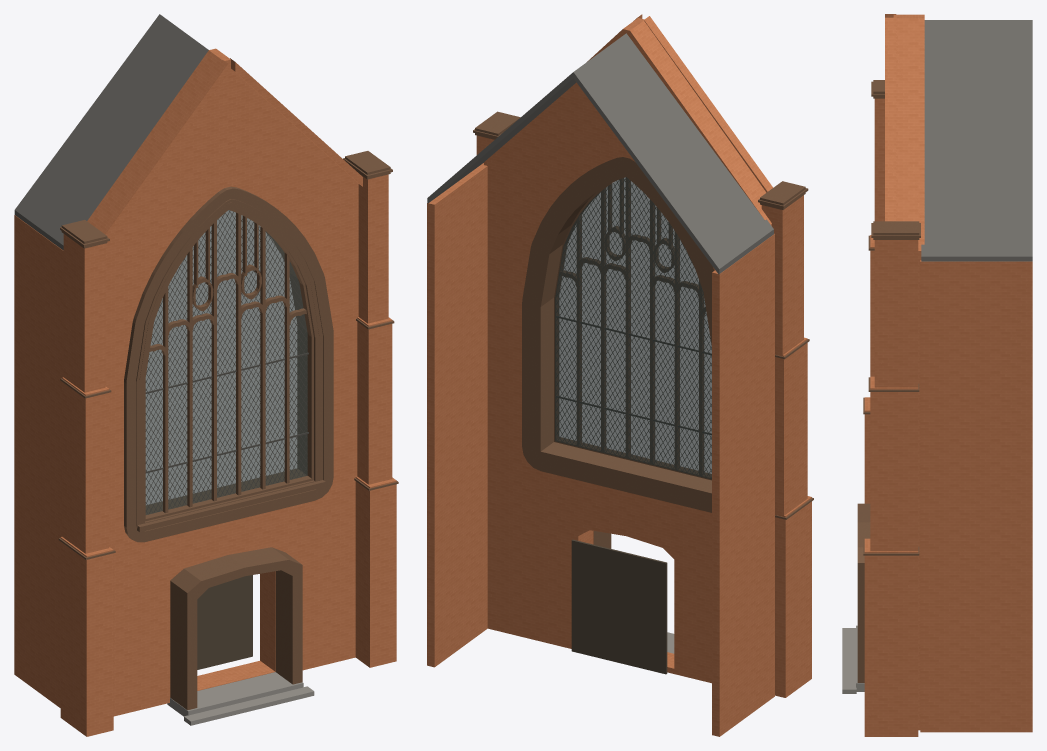
Rendered from lod-source.glb.
The picture shows the model from 3 angles, left to right: view 1: azimuth 30°, elevation 25°; view 2: azimuth 150°, elevation 25°; view 3: azimuth 270°, elevation 25°; orthographic projection. The views are drawn at different scales.
Parts seen in each view (by area): view 1: 国际礼拜堂临衡山路七扇尖窗山墙; view 2: 国际礼拜堂临衡山路七扇尖窗山墙; view 3: 国际礼拜堂临衡山路七扇尖窗山墙.
Boxes of the visible parts, x1,y1,x2,y2 form: 国际礼拜堂临衡山路七扇尖窗山墙: (14, 14, 398, 736); 国际礼拜堂临衡山路七扇尖窗山墙: (427, 14, 813, 736); 国际礼拜堂临衡山路七扇尖窗山墙: (842, 14, 1032, 736).
Bounding box in the file's own units: 9.11 × 17.61 × 4.69.
Materials: 7 (2 with a texture image).
